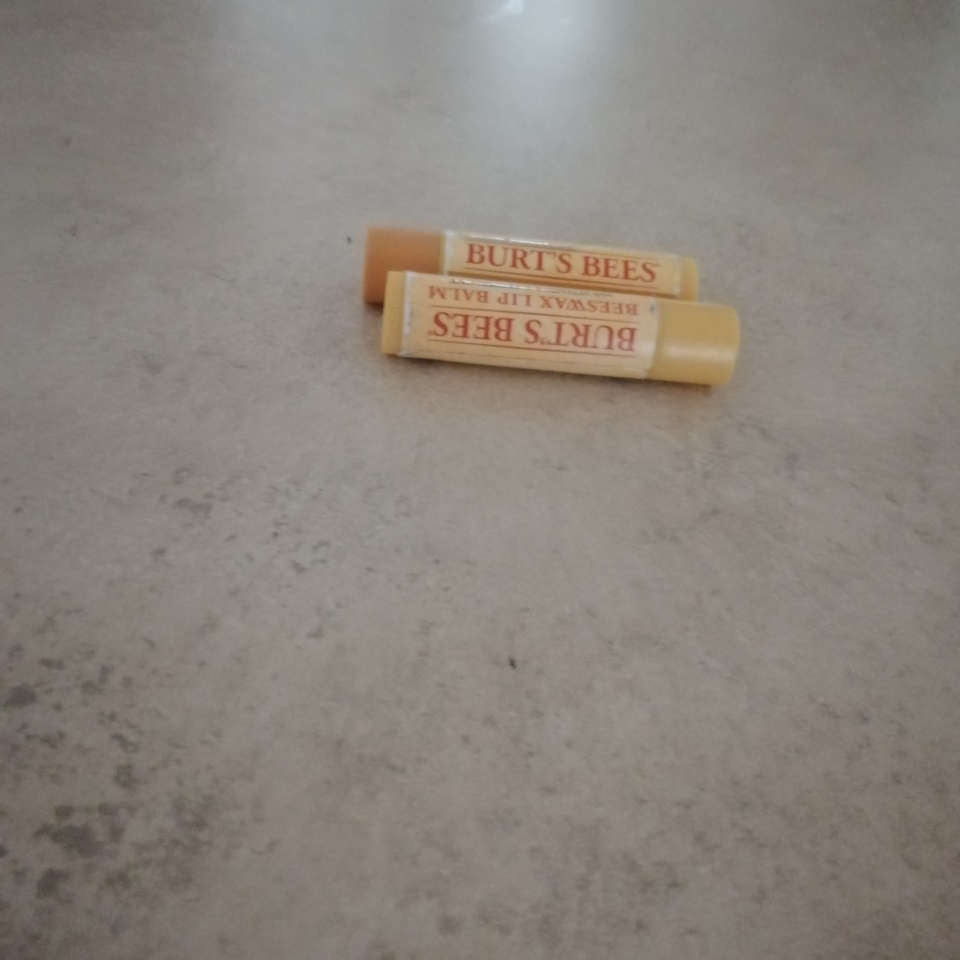chapstick: (380, 268, 741, 388), (363, 223, 699, 304)
